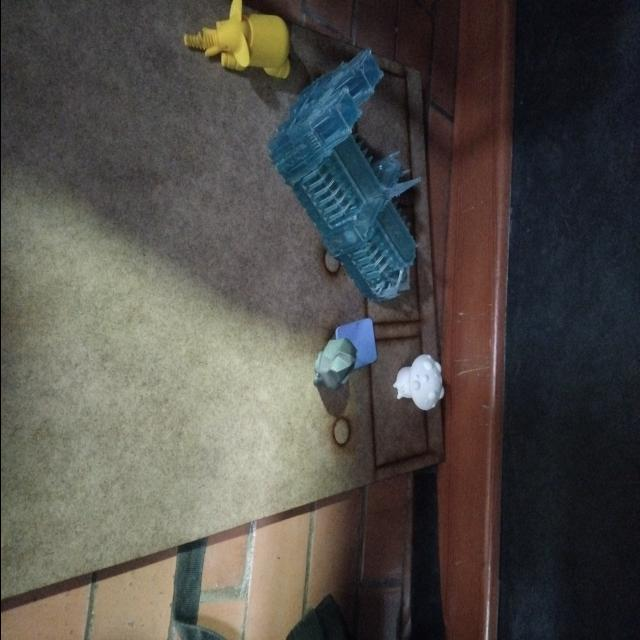Hongo: (389, 346, 451, 416)
